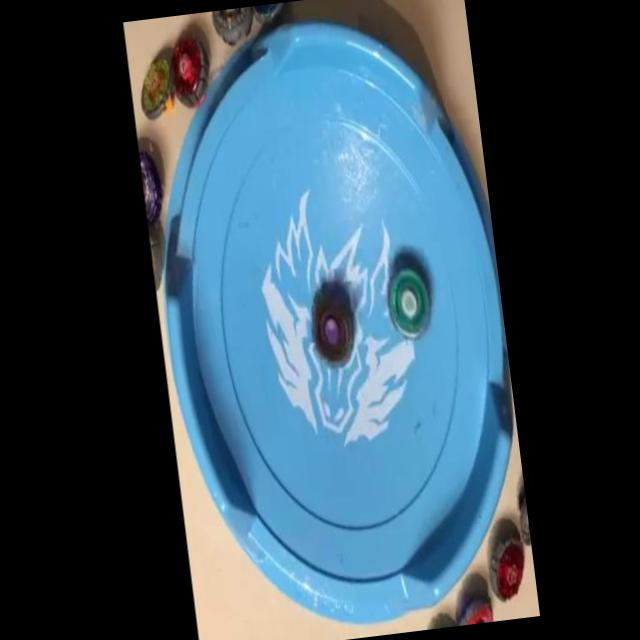Beyblade: (384, 264, 433, 340), (166, 32, 214, 109), (308, 296, 356, 368), (484, 532, 530, 604), (134, 53, 179, 121)
